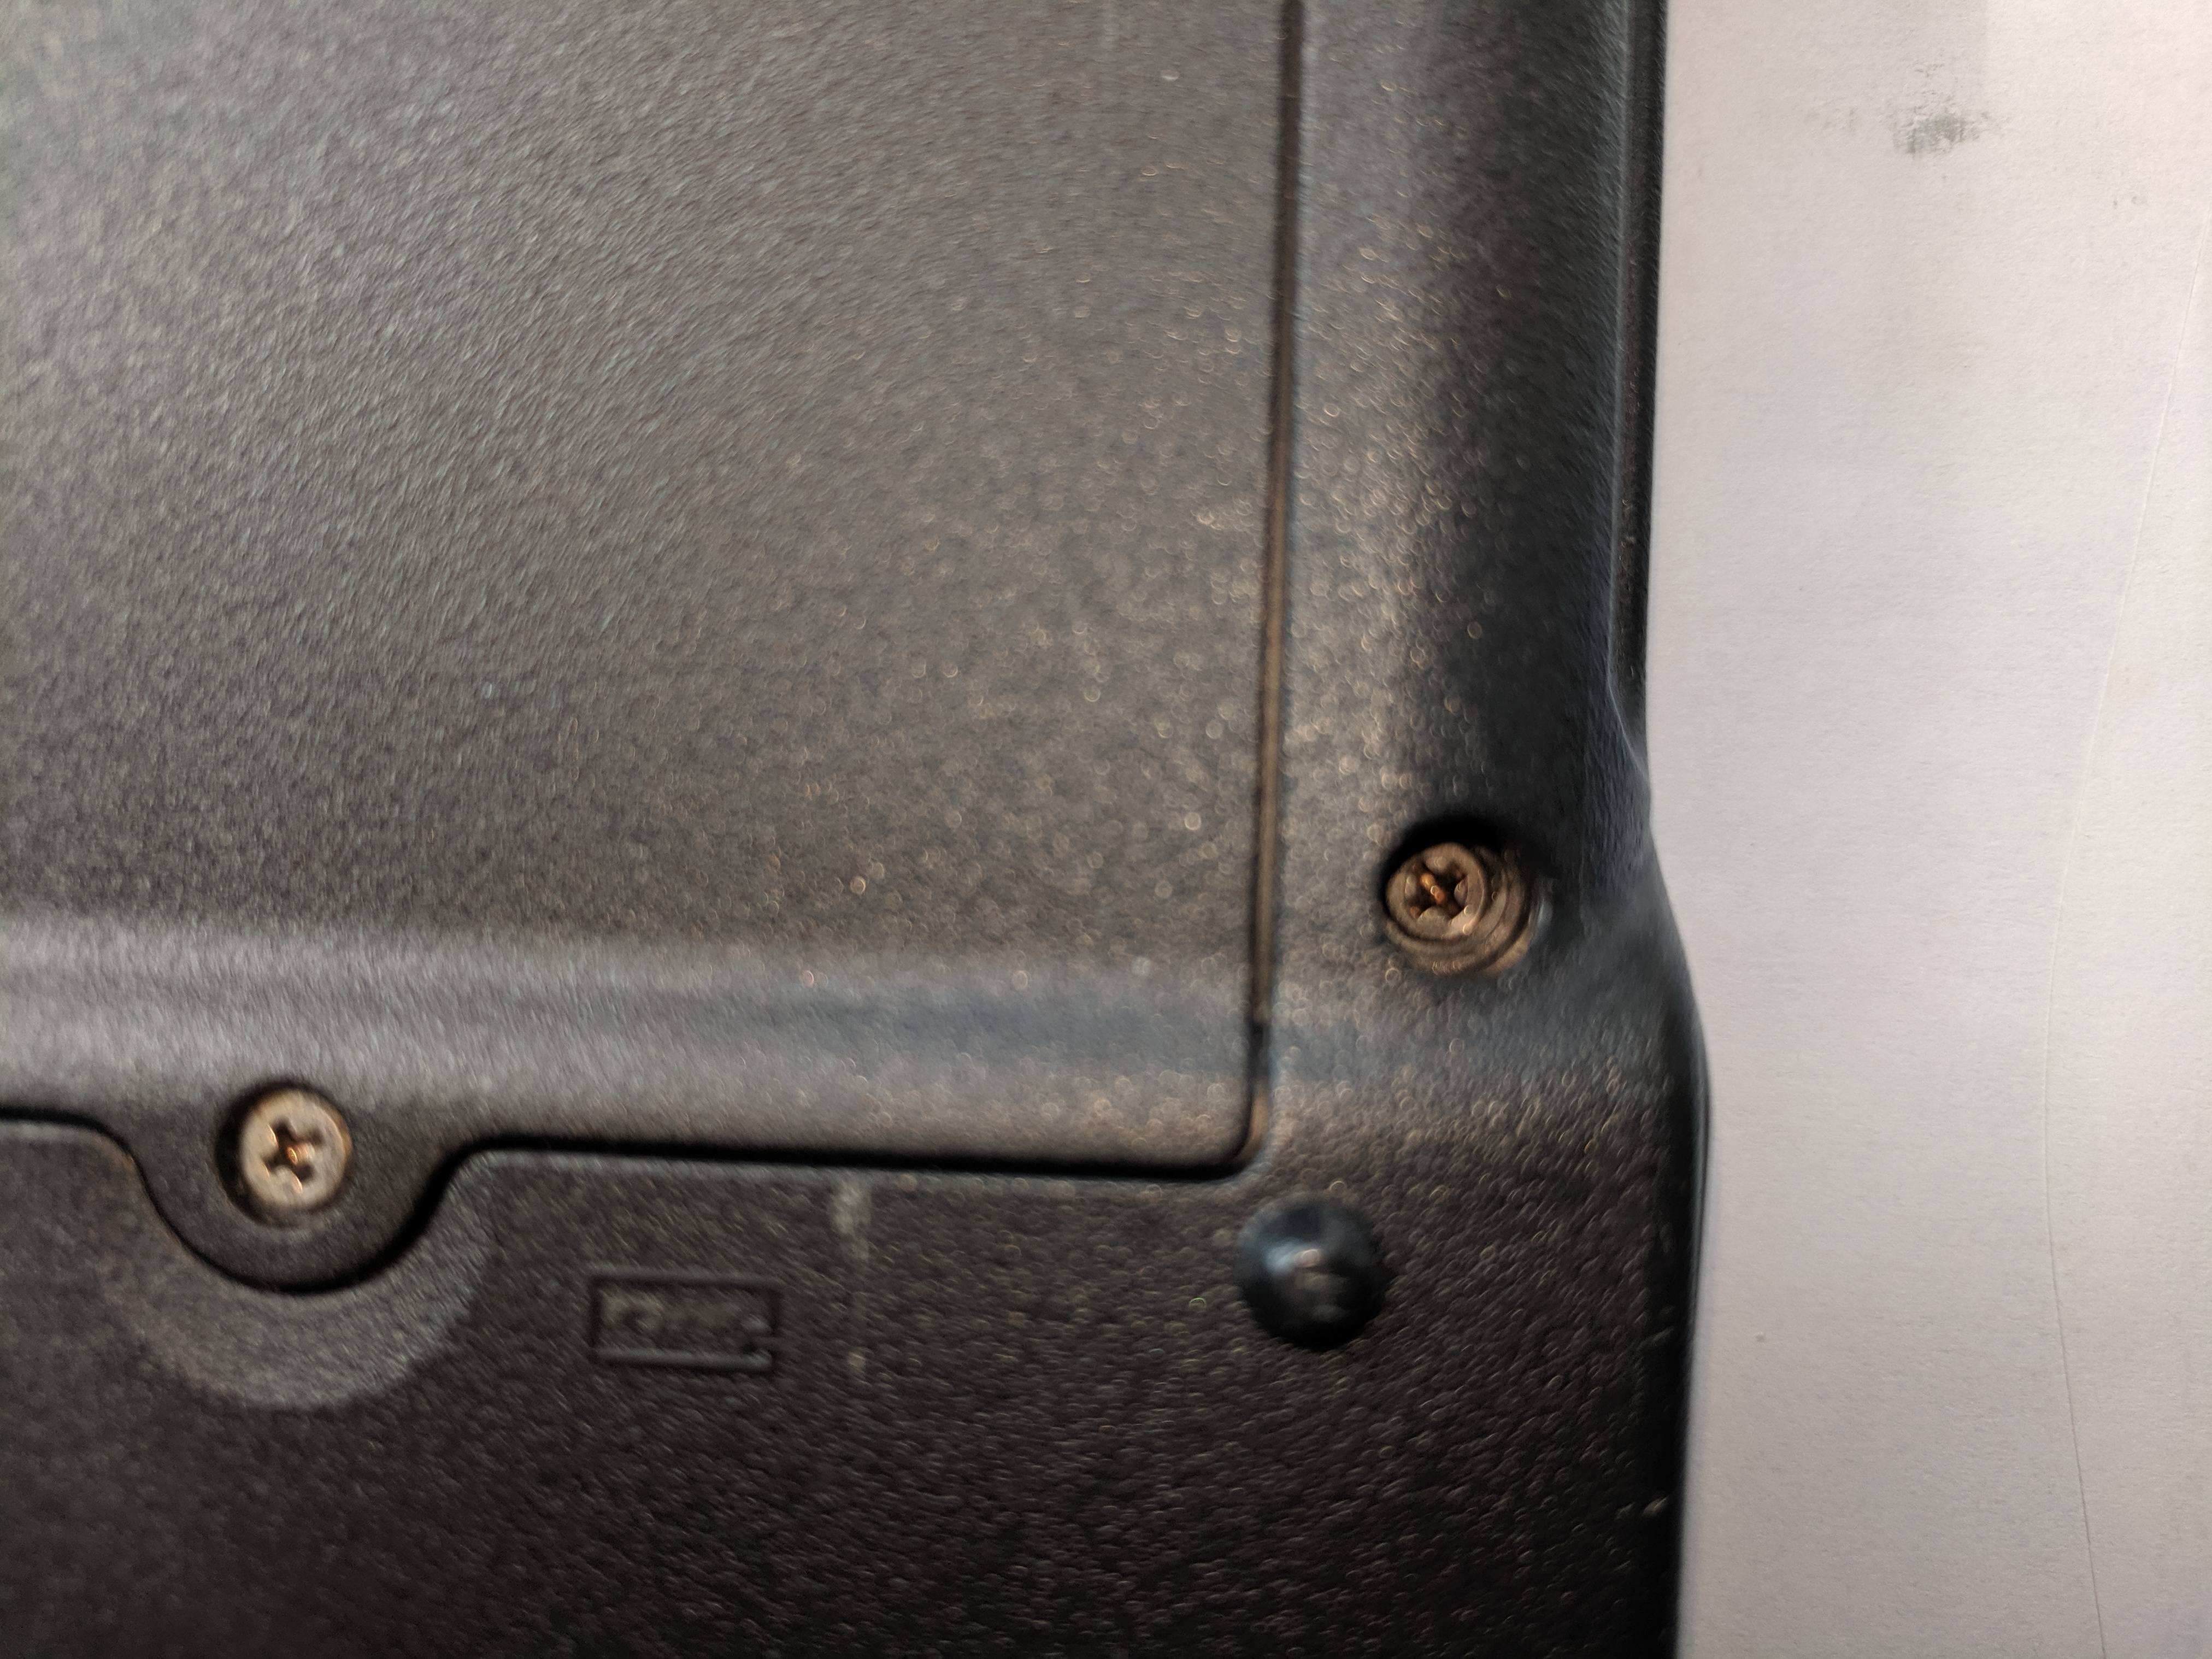cross_recessed_screw: (206, 1061, 361, 1227), (1372, 803, 1508, 955)
